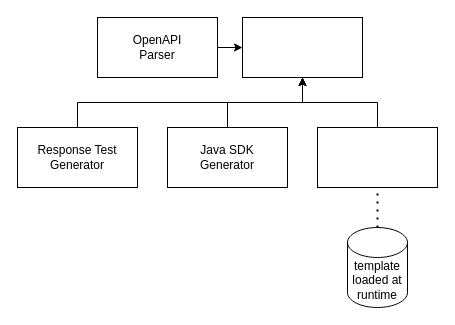
Some shapes in this 455 by 325 pixel diagram are drawn without their labels. The centre of each missing label's shape, as x and y in pixels:
"Event Listener" belongs at [302,47].
"Template Generator" belongs at [377,157].
